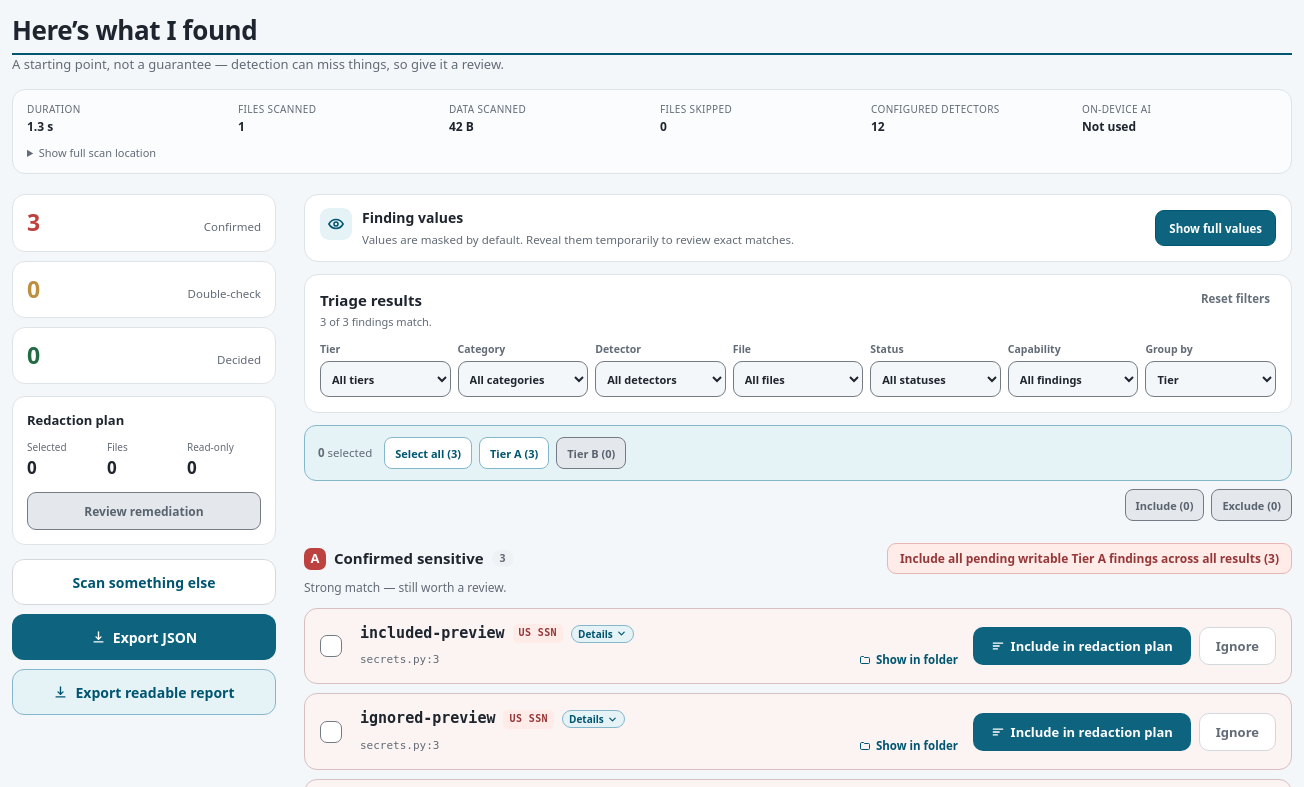
ResultsScreen › uses the Decided summary card to show included and ignored findings only
This screenshot has width=1304, height=787.
Click the button "Include in redaction plan" in the row of "included-preview" at {"x": 1082, "y": 646}, box [973,627,1191,665]
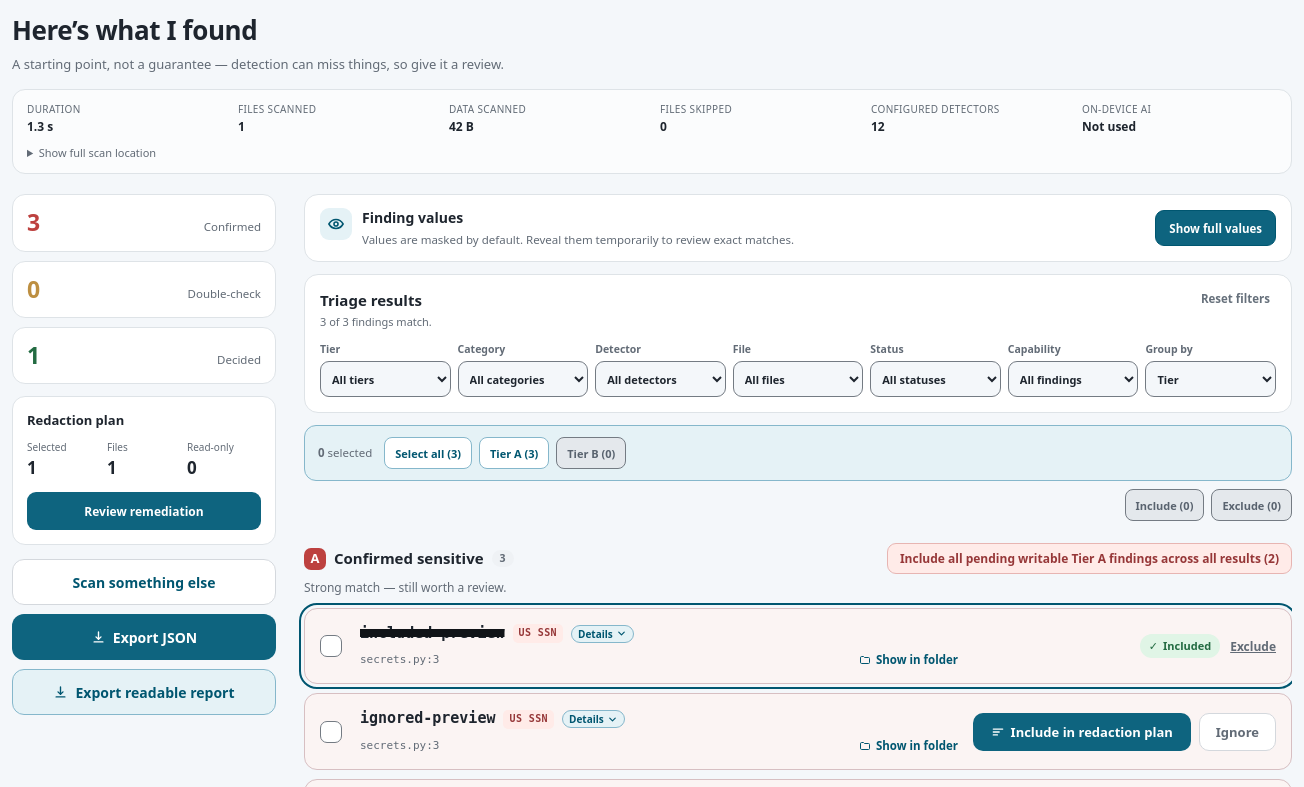
Click the button "Ignore" in the row of "ignored-preview" at {"x": 1237, "y": 732}, box [1199,713,1276,751]
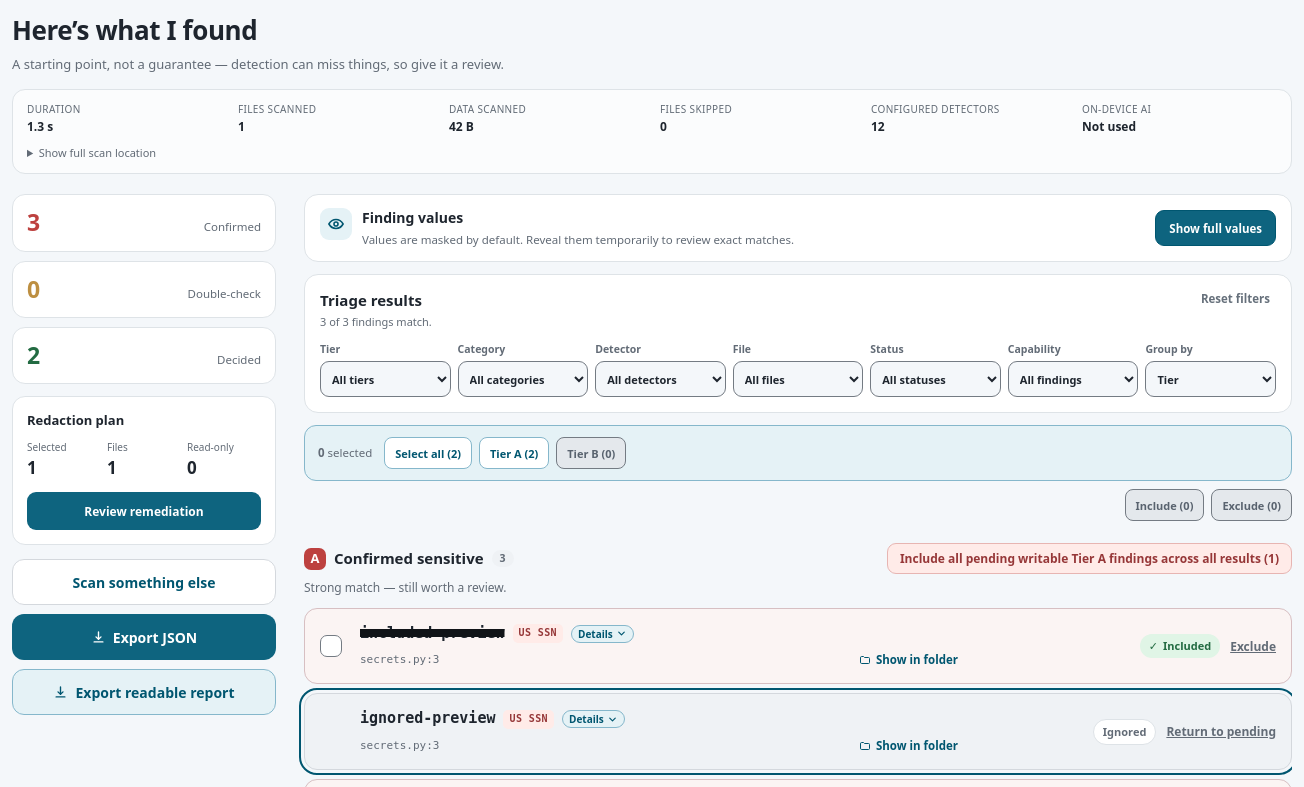
Click the button "2 Decided" at {"x": 239, "y": 360}, box [12,327,276,384]
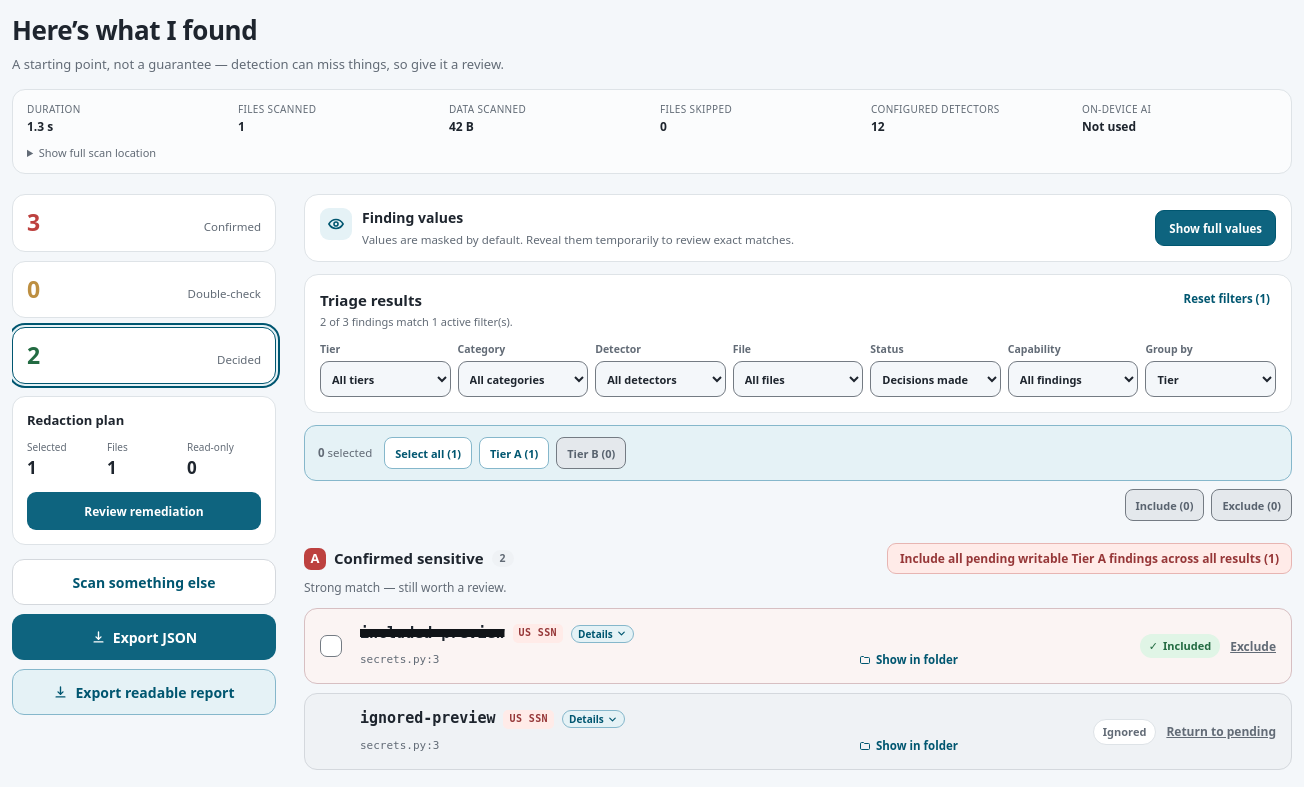
Expected: the text "included-preview" is shown, [360,623,504,644]
Now the dropdown named "Remediation status" shows "Decisions made", box [870,361,1001,397]
